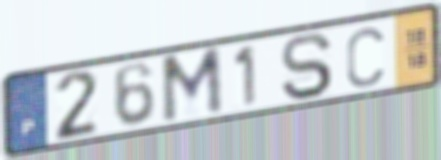1: (230, 42, 258, 110)
2: (52, 69, 100, 144)
6: (111, 60, 157, 129)
C: (344, 24, 387, 91)
M: (158, 43, 226, 127)
S: (279, 31, 335, 103)
